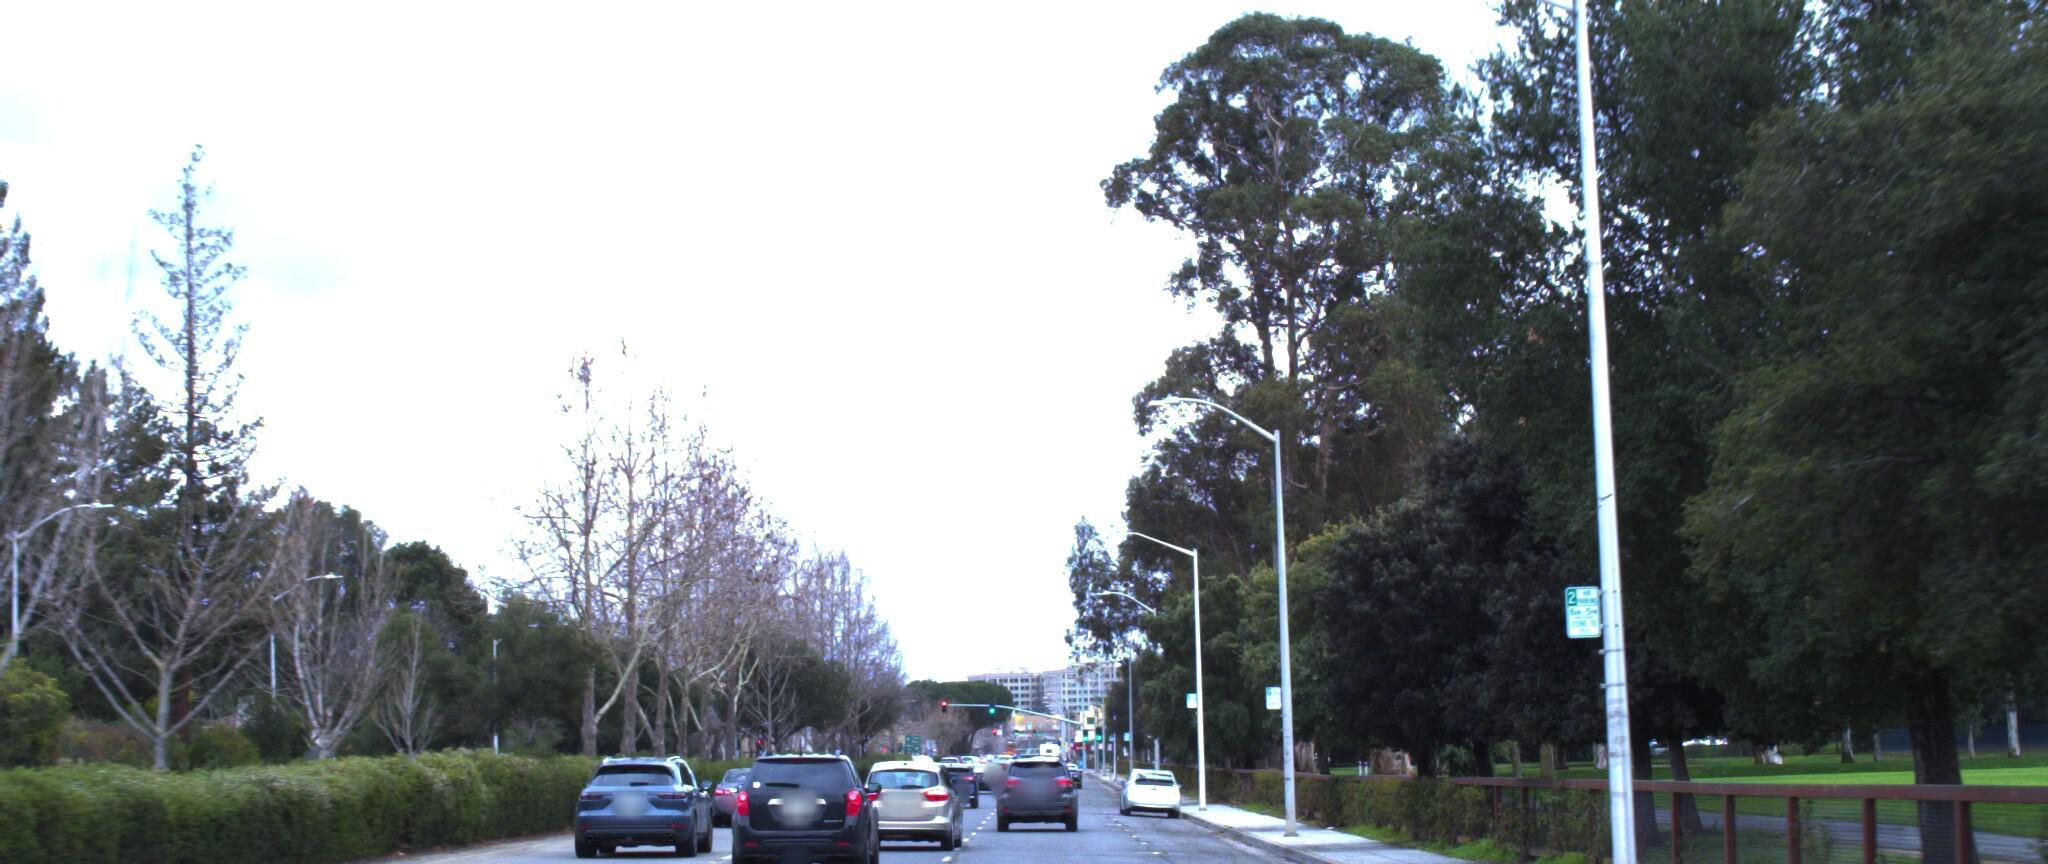car: (737, 747, 887, 864), (575, 754, 720, 864), (856, 765, 969, 859), (997, 757, 1080, 838)
